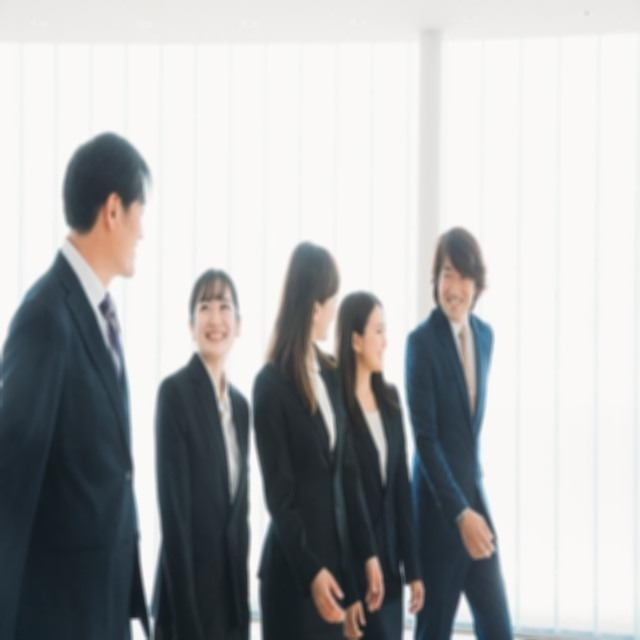Sin_Casco_Mascarrilla: (62, 133, 147, 276), (280, 238, 340, 343), (431, 228, 487, 315), (187, 268, 242, 355), (338, 291, 387, 376)
